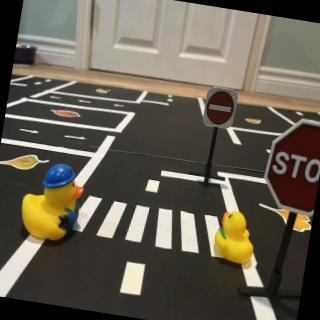duck_regular: (209, 207, 263, 270)
duck_specialty: (16, 157, 92, 248)
road_crosswalk: (66, 190, 237, 266)
road_oneway: (62, 131, 89, 145), (20, 127, 42, 137), (78, 97, 94, 108), (111, 103, 127, 113), (49, 95, 66, 103)
sign_noentry: (203, 86, 241, 134)
sign_stop: (260, 118, 320, 214)
